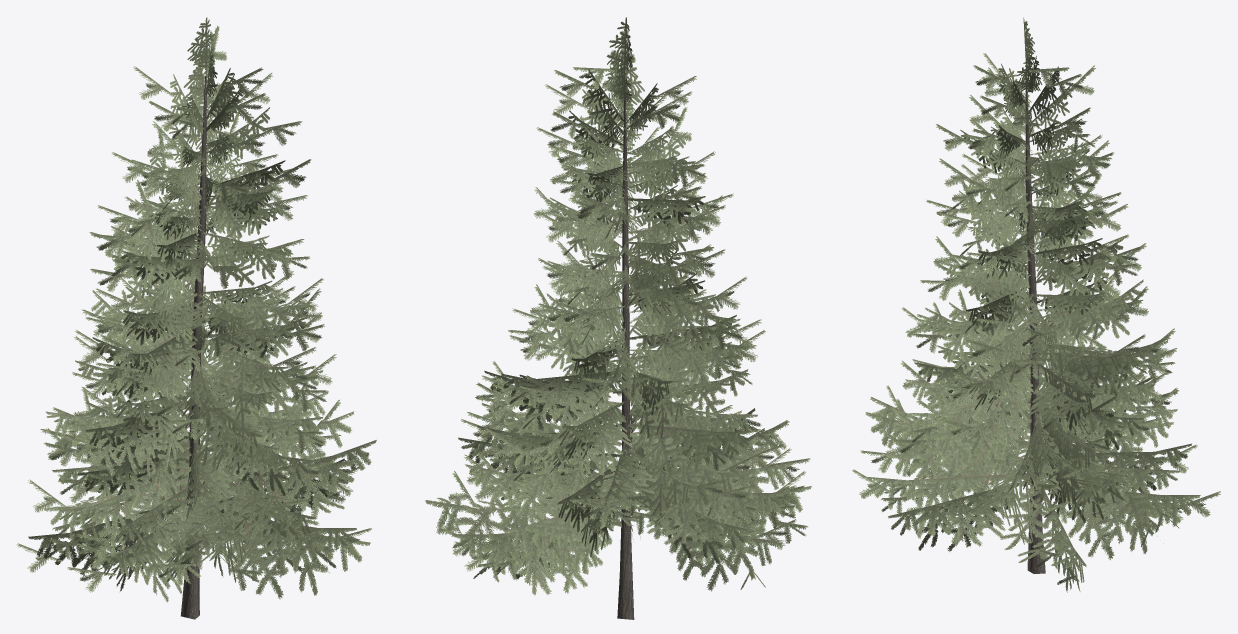
File: Pseudotsuga_Menziesii_Spring_Young.glb
3 views of the same model, side by side, from view 1: azimuth 30°, elevation 25°; view 2: azimuth 150°, elevation 25°; view 3: azimuth 270°, elevation 25° (orthographic). The views are drawn at different scales.
Parts seen in each view (by area): view 1: Pseudotsuga_Menziesii_Spring_Young__LOD3; view 2: Pseudotsuga_Menziesii_Spring_Young__LOD3; view 3: Pseudotsuga_Menziesii_Spring_Young__LOD3.
Part boxes in pixels (x1,y1,x2,y2): Pseudotsuga_Menziesii_Spring_Young__LOD3: [16, 17, 376, 619]; Pseudotsuga_Menziesii_Spring_Young__LOD3: [425, 17, 811, 619]; Pseudotsuga_Menziesii_Spring_Young__LOD3: [852, 17, 1220, 592].
Size of the model in its own units: 9.48 by 15.33 by 9.26.
2 materials, 2 textured.
